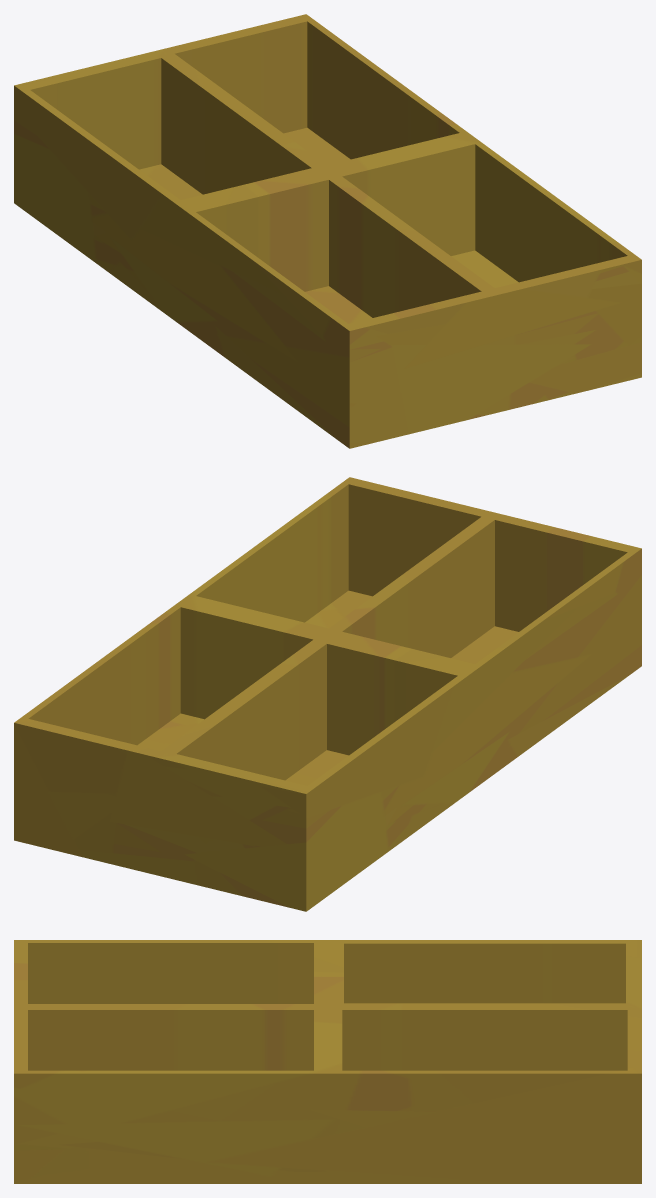
Rendered from Container Envelopes.fbx.
The picture shows the model from 3 angles, top to bottom: view 1: azimuth 30°, elevation 25°; view 2: azimuth 150°, elevation 25°; view 3: azimuth 270°, elevation 25°; orthographic projection. The views are drawn at different scales.
Visible parts, largest first — view 1: Cube; view 2: Cube; view 3: Cube.
Part boxes in pixels (x1,y1,x2,y2): Cube: (14,14,641,448); Cube: (14,477,641,911); Cube: (14,940,641,1183).
Bounding box in the file's own units: 260 × 99.98 × 516.
1 material, 1 textured.
